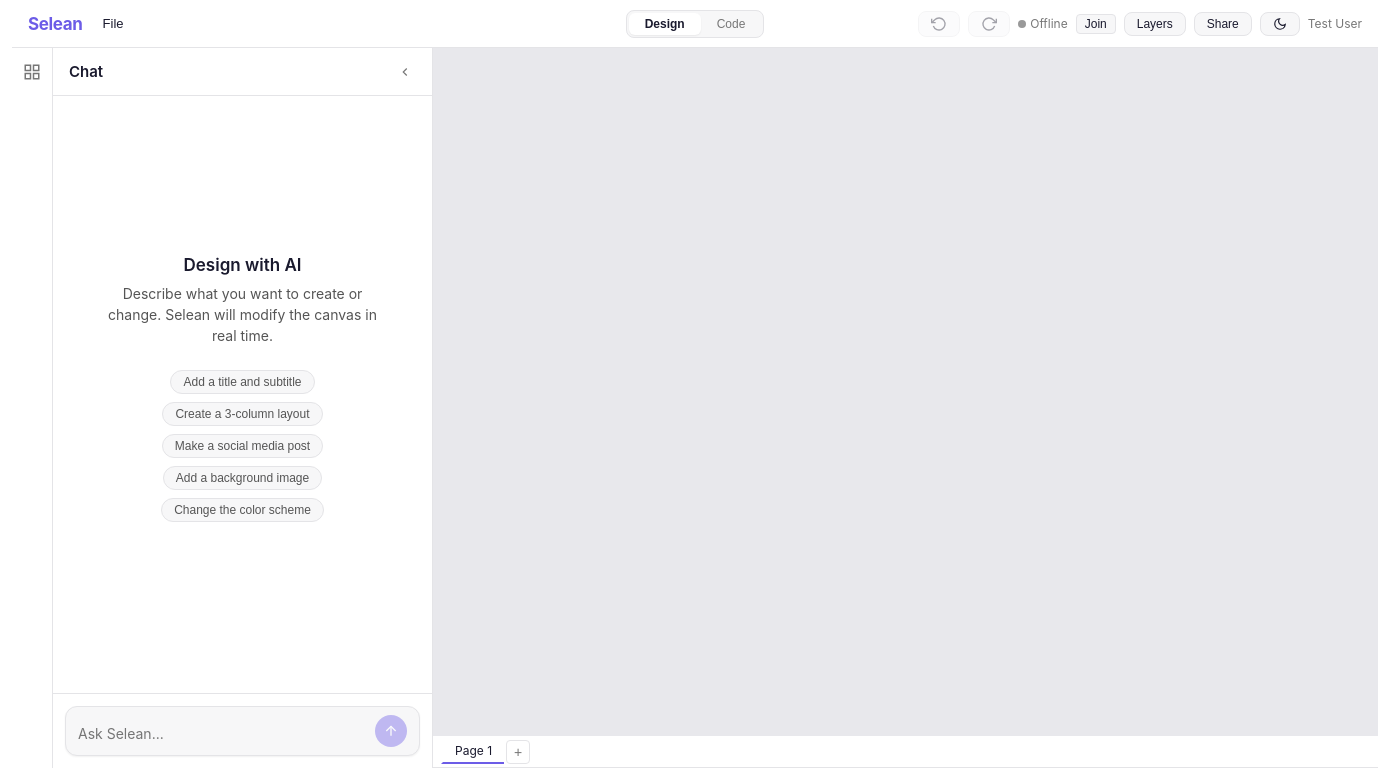
Test: App › renders hidden file input for image upload once the sidebar is open
The width and height of the screenshot is (1390, 768).
Click the button titled "Open sidebar". click: (32, 72)
box: [12,48,52,96]
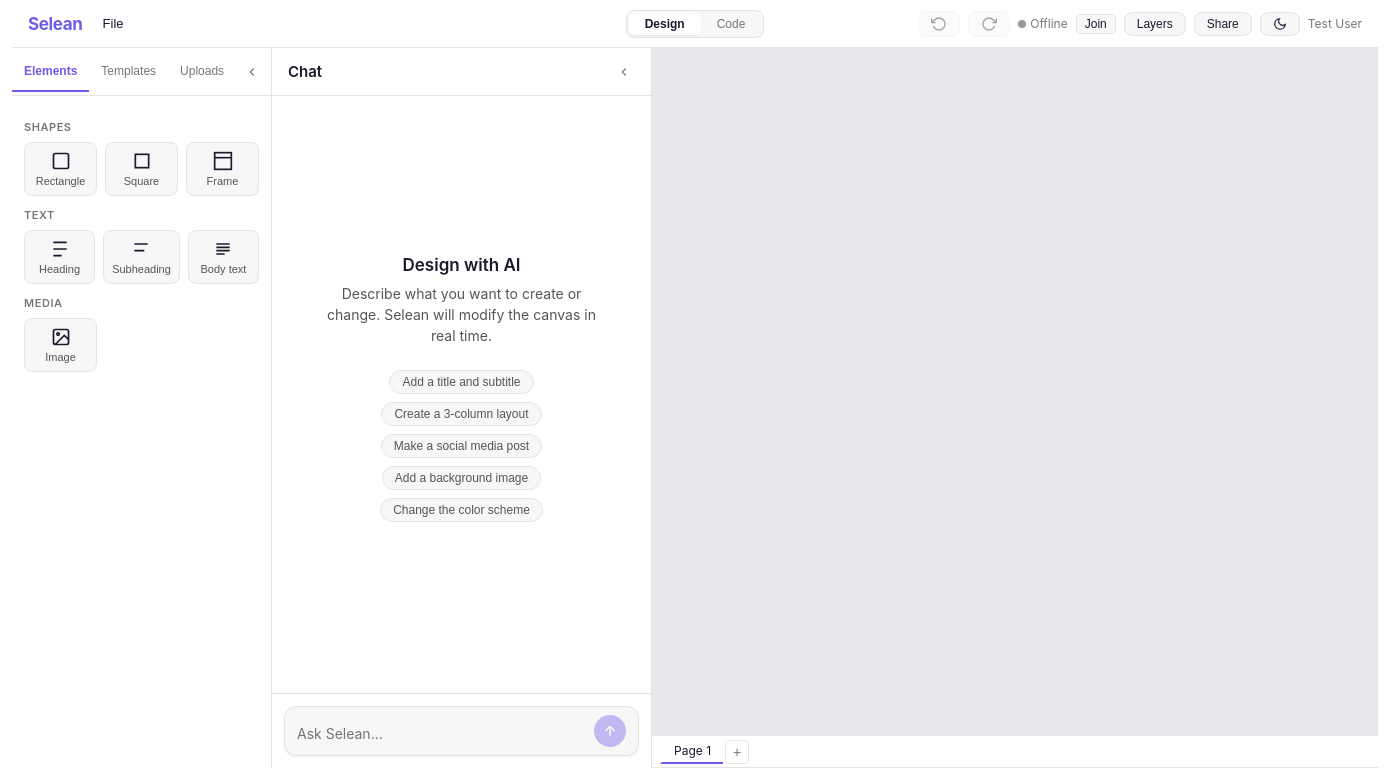
Check: the element that starts with "Shapes" is shown, box [24,120,259,372]
